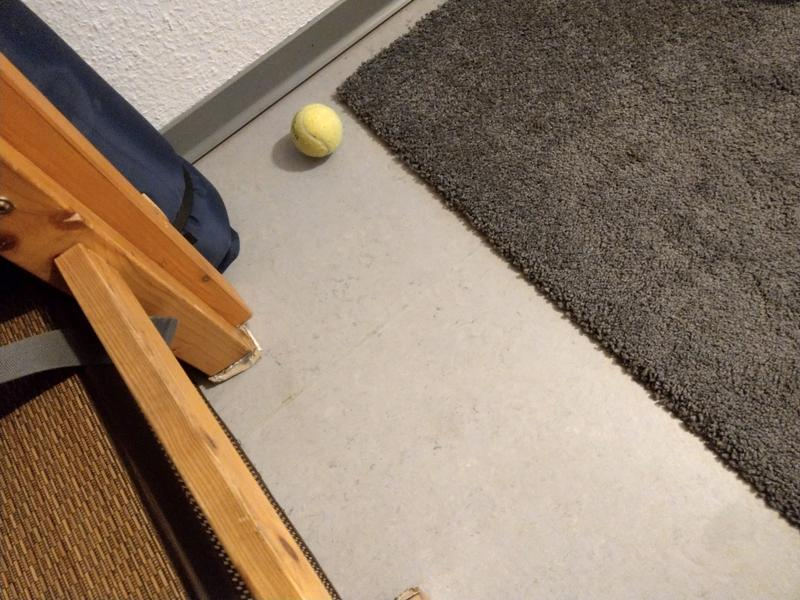Tennisball: (287, 101, 345, 160)
